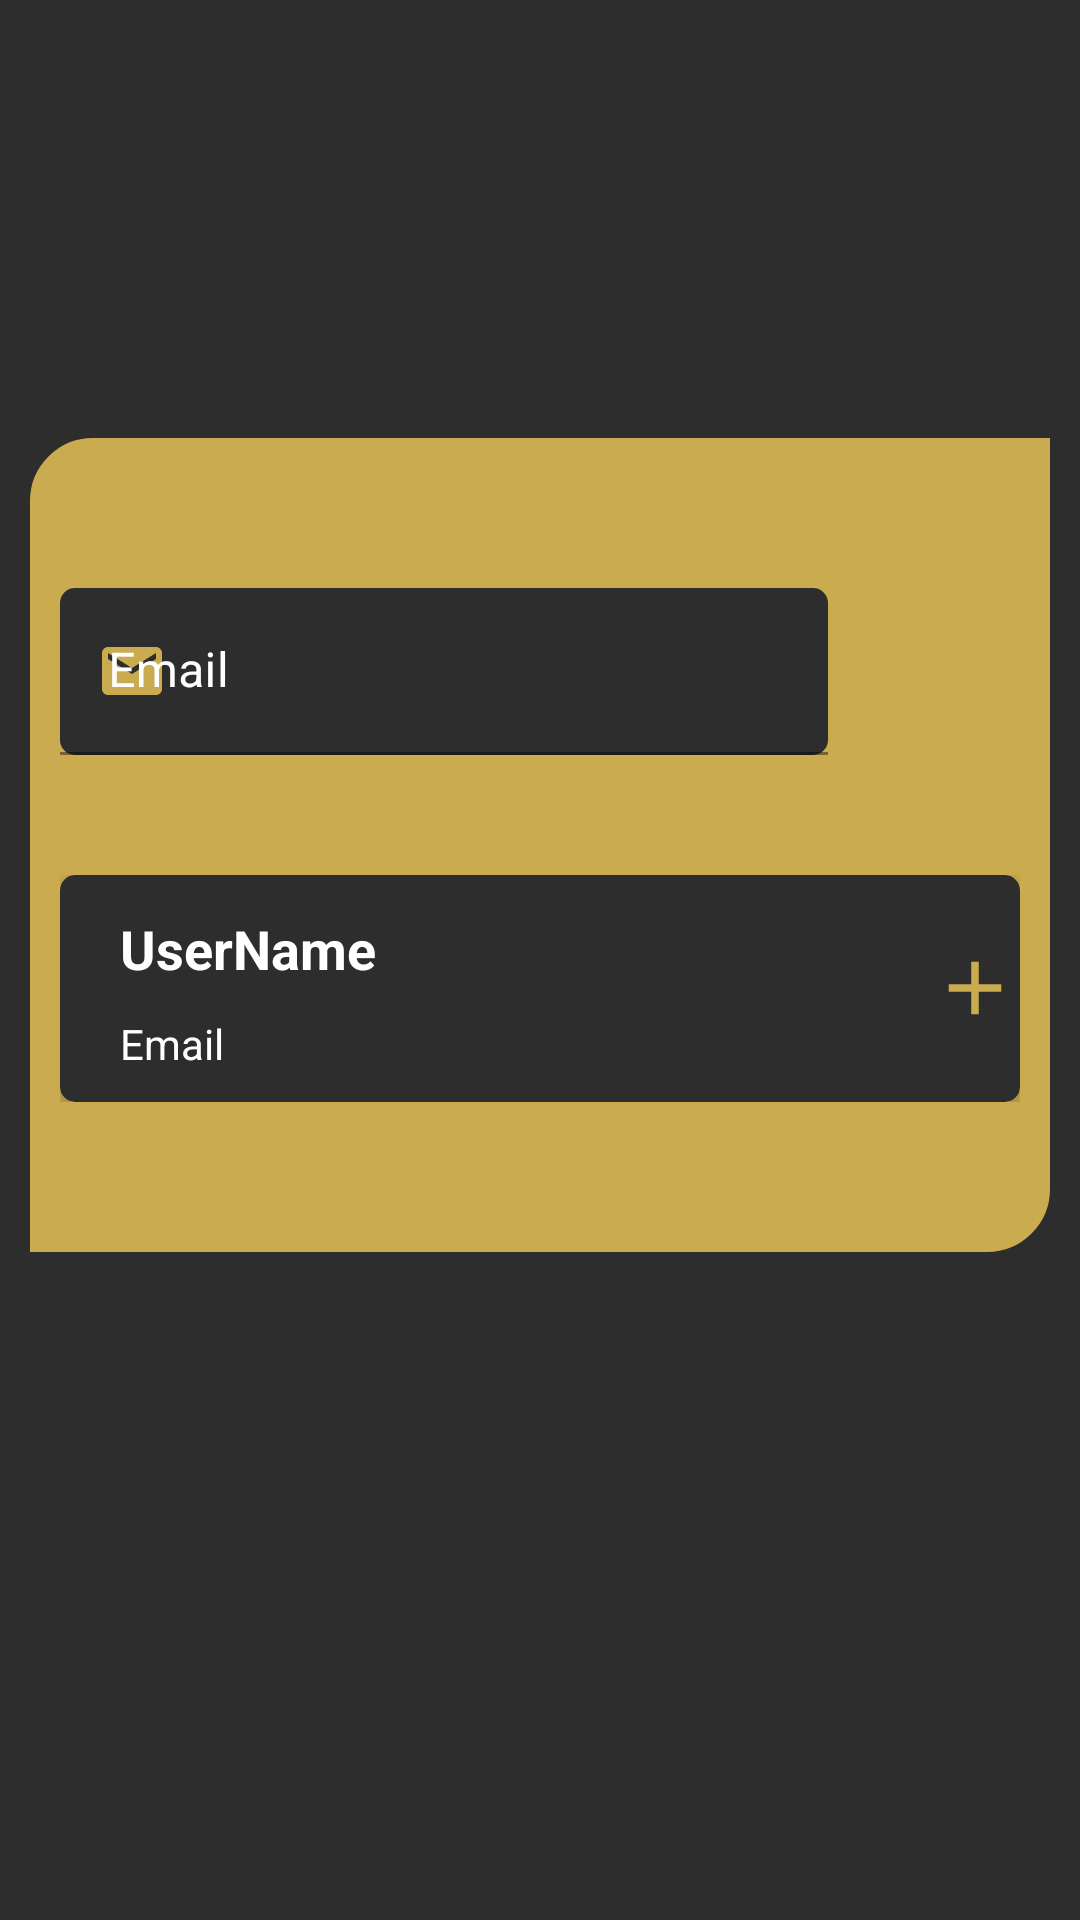

Screen size 1080 × 1920. Icon name, then its center in pixels as point (x, y):
add: point (975, 988)
